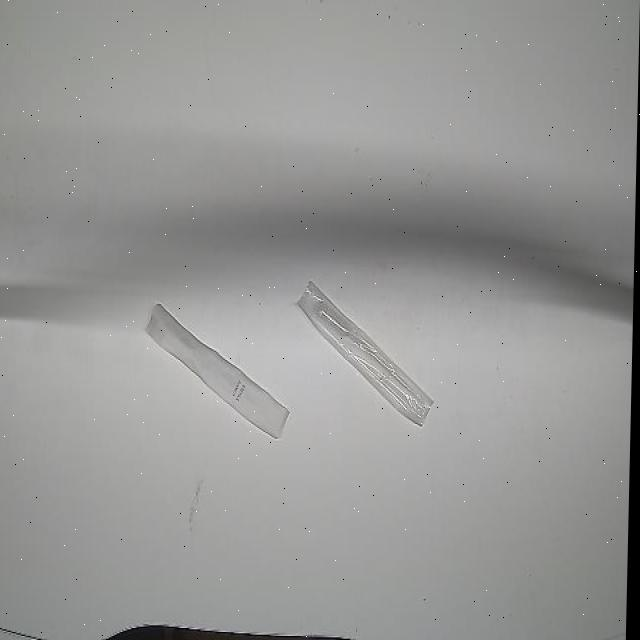Disposable Pasteur Pipette - Sealed: (295, 274, 441, 428), (146, 302, 295, 444)
